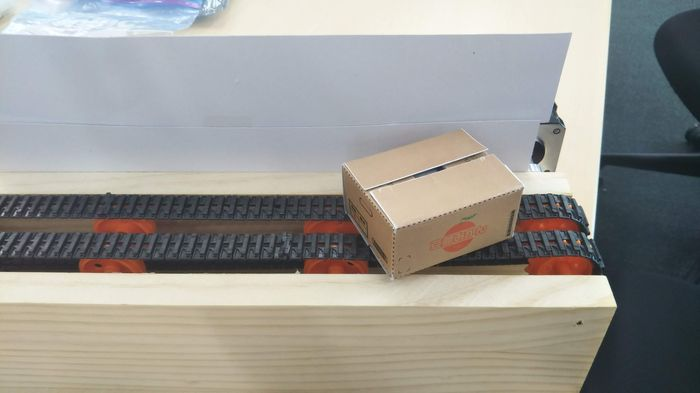box1: (339, 126, 524, 281)
